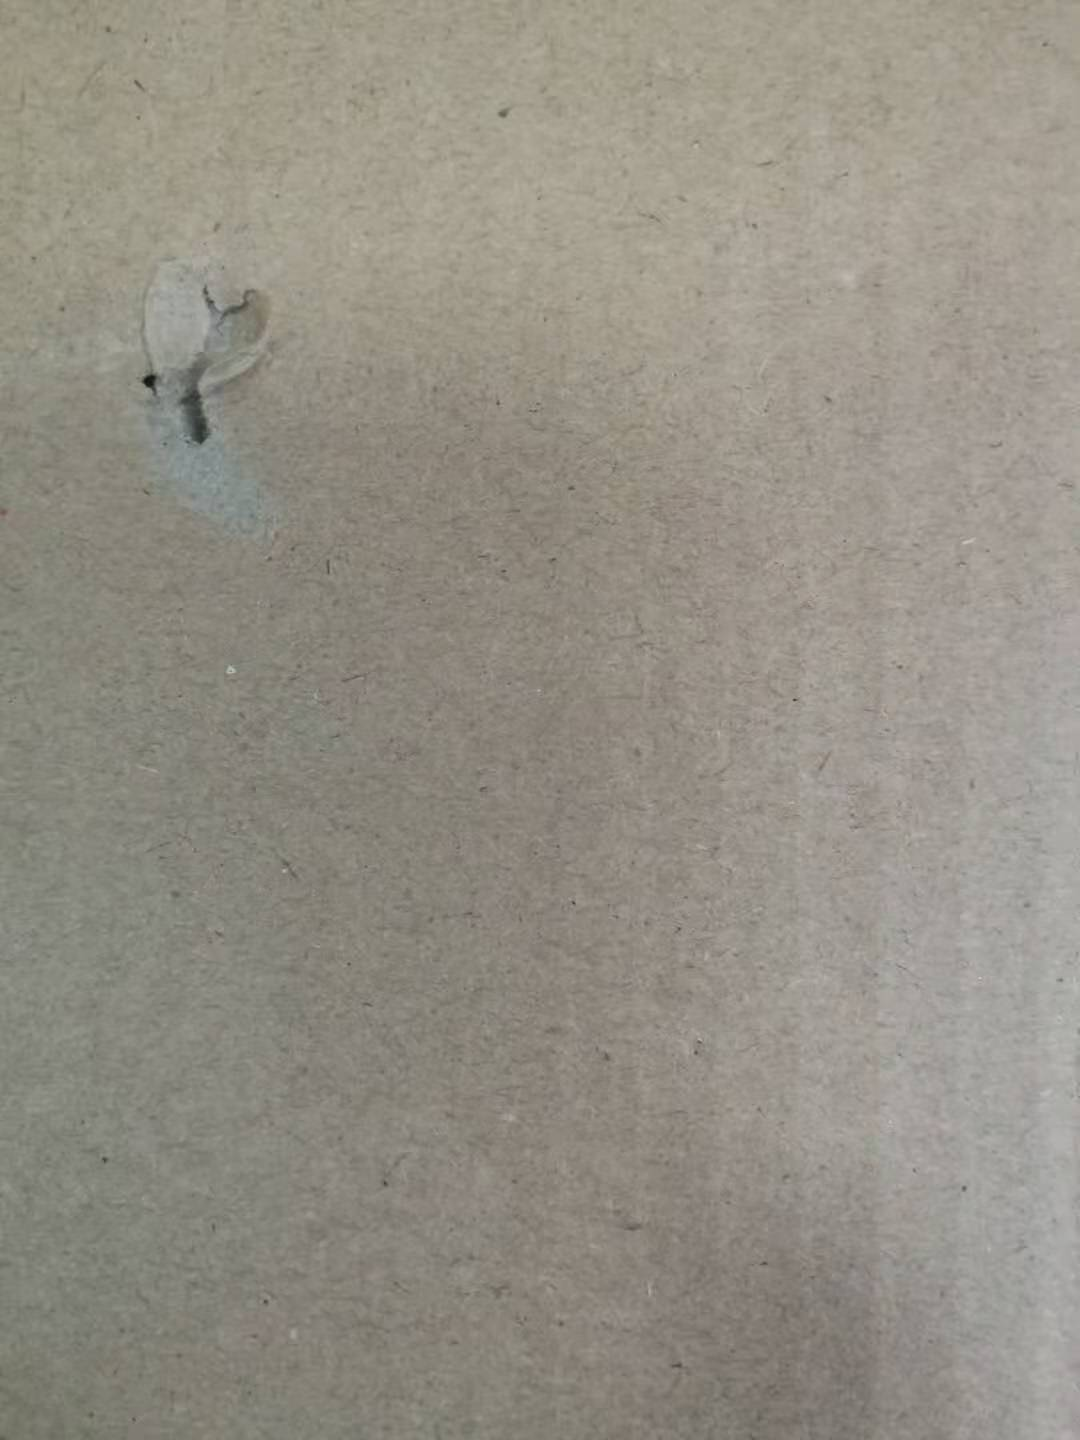defect: (19, 232, 372, 567)
